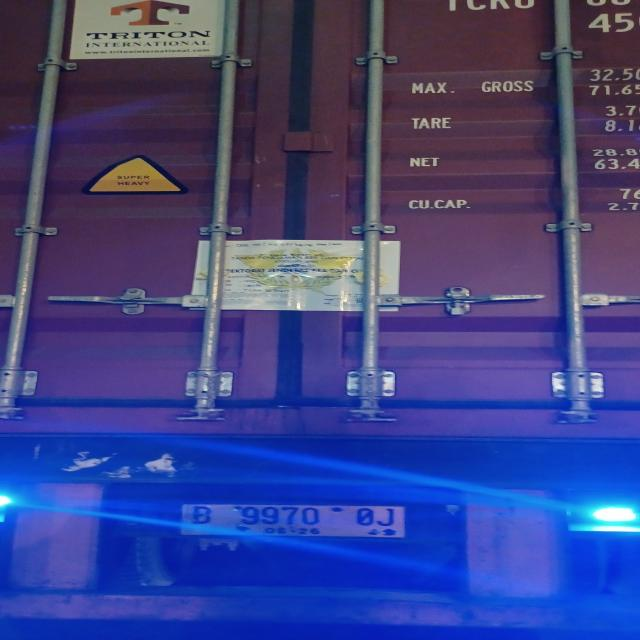seal: (446, 291, 472, 318)
